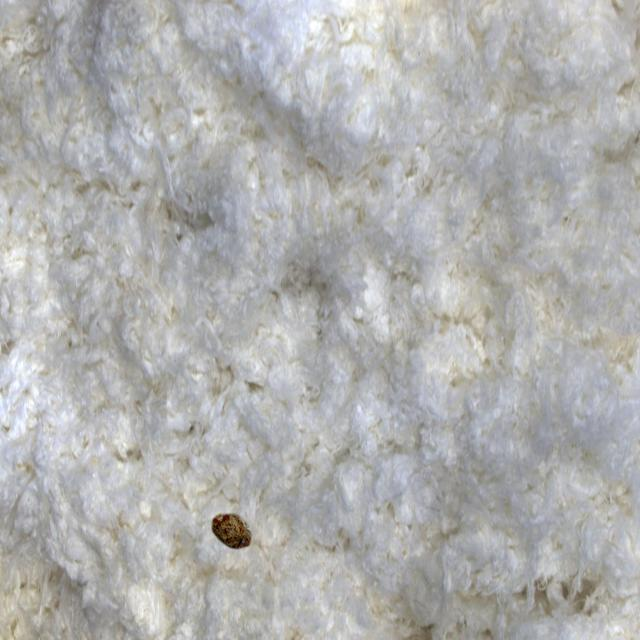dust: (199, 477, 276, 596)
